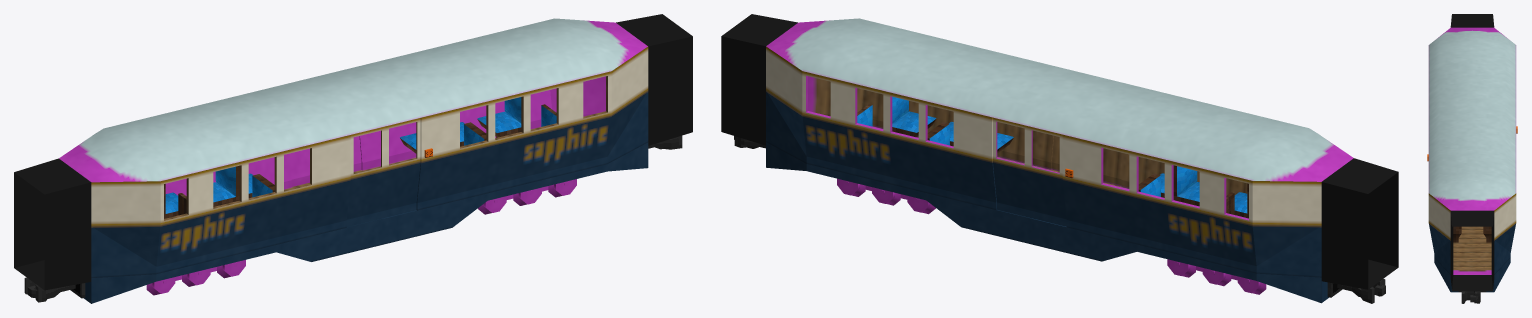
The model's file is sapphire_express_coach.obj.
3 views of the same model, side by side, from view 1: azimuth 30°, elevation 25°; view 2: azimuth 150°, elevation 25°; view 3: azimuth 270°, elevation 25° (orthographic). The views are drawn at different scales.
Visible parts, largest first — view 1: FRAME_ext_roof, FRAME_ext_body.002, FRAME_ext_body.001, connector.001, connector.002, FRAME_int_body.001, DOOR_6_CG_doorleft_NOTOUCH, DOOR_5_CG_doorleft_NOTOUCH, FRAME_int_body.002, bench.007, bench, DOOR_3_NOTOUCH_EXTERNAL (+1 smaller); view 2: FRAME_ext_roof, FRAME_ext_body.002, FRAME_ext_body.001, connector.001, connector.002, FRAME_int_body.001, DOOR_4_CG_doorright_NOTOUCH, DOOR_3_CG_doorright_NOTOUCH, FRAME_int_body.002, bench.006, bench.001, DOOR_5_NOTOUCH_EXTERNAL (+1 smaller); view 3: FRAME_ext_roof, FRAME_ext_body.001, connector.002, FRAME_int_floor, connector.001, COUPLED_REAR_4_HIDE_INVERT, bench, bench.001.
Part boxes in pixels (bbox=[...]): FRAME_ext_roof: bbox=[59, 18, 647, 182]; FRAME_ext_body.002: bbox=[83, 135, 381, 303]; FRAME_ext_body.001: bbox=[382, 46, 648, 244]; connector.001: bbox=[14, 158, 91, 290]; connector.002: bbox=[616, 14, 692, 145]; FRAME_int_body.001: bbox=[359, 76, 607, 170]; DOOR_6_CG_doorleft_NOTOUCH: bbox=[381, 118, 420, 218]; DOOR_5_CG_doorleft_NOTOUCH: bbox=[346, 126, 385, 226]; FRAME_int_body.002: bbox=[164, 148, 311, 220]; bench.007: bbox=[213, 165, 252, 206]; bench: bbox=[477, 97, 521, 137]; DOOR_3_NOTOUCH_EXTERNAL: bbox=[289, 148, 309, 186]; FRAME_ext_roof: bbox=[766, 18, 1353, 181]; FRAME_ext_body.002: bbox=[1031, 134, 1328, 303]; FRAME_ext_body.001: bbox=[766, 46, 1031, 244]; connector.001: bbox=[1321, 158, 1398, 289]; connector.002: bbox=[721, 14, 797, 145]; FRAME_int_body.001: bbox=[806, 75, 1053, 169]; DOOR_4_CG_doorright_NOTOUCH: bbox=[993, 117, 1031, 218]; DOOR_3_CG_doorright_NOTOUCH: bbox=[1028, 126, 1066, 226]; FRAME_int_body.002: bbox=[1101, 147, 1248, 220]; bench.006: bbox=[1160, 165, 1199, 206]; bench.001: bbox=[892, 96, 936, 137]; DOOR_5_NOTOUCH_EXTERNAL: bbox=[1103, 148, 1123, 186]; FRAME_ext_roof: bbox=[1428, 27, 1516, 210]; FRAME_ext_body.001: bbox=[1428, 193, 1516, 292]; connector.002: bbox=[1450, 210, 1494, 291]; FRAME_int_floor: bbox=[1453, 226, 1491, 274]; connector.001: bbox=[1450, 14, 1494, 27]; COUPLED_REAR_4_HIDE_INVERT: bbox=[1461, 291, 1480, 303]; bench: bbox=[1483, 226, 1491, 242]; bench.001: bbox=[1453, 226, 1461, 242].
Bounding box in the file's own units: 11.5 × 2.56 × 2.06.
7 materials, 7 textured.
